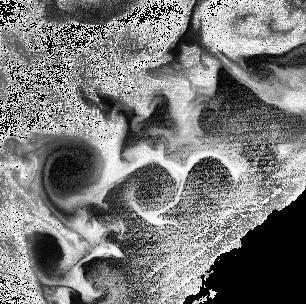AE: (38, 141, 115, 204), (16, 224, 79, 285), (124, 154, 179, 218)
